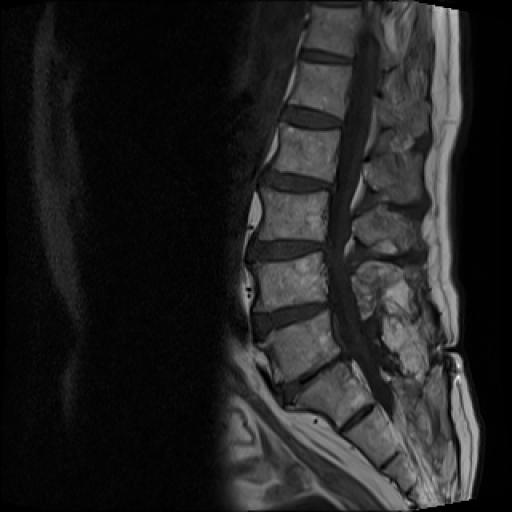L1: (288, 61, 352, 118)
L2: (273, 123, 340, 182)
L3: (260, 188, 328, 240)
L4: (253, 252, 327, 310)
L5: (258, 311, 340, 382)
S1: (295, 362, 375, 428)
